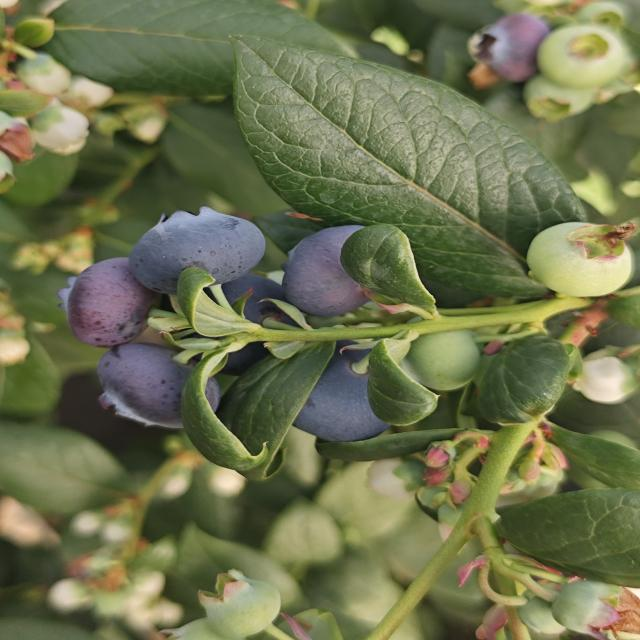ripe: (126, 204, 268, 297), (94, 341, 222, 431), (191, 269, 299, 374), (273, 366, 403, 442), (279, 223, 375, 320), (58, 256, 157, 349), (468, 11, 563, 86)
